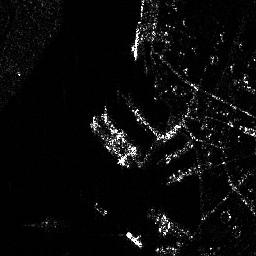ship: (131, 26, 142, 62), (125, 230, 143, 248)
